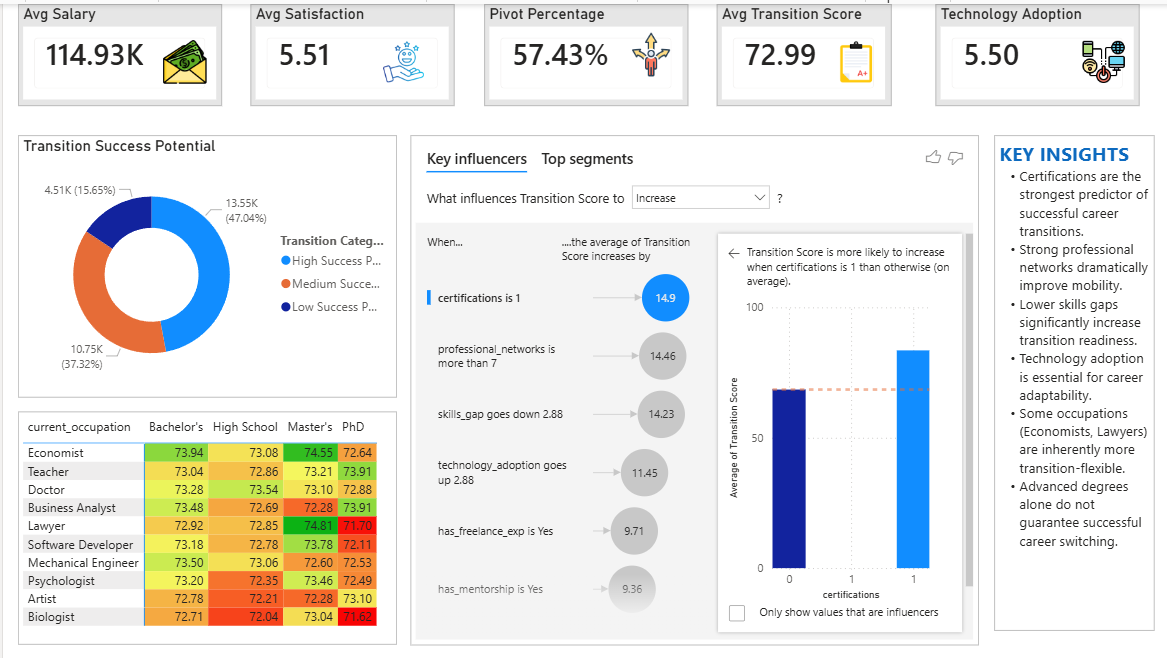

The dashboard page shown, as its layout file describes it:
{"tool":"powerbi","page":{"name":"Page 2","canvas":[1280,720],"ordinal":1},"visuals":[{"type":"donutChart","title":"Transition Success Potential","fields":{"Y":["CountNonNull(dashboard_ready_career_data.Transition Category)"],"Category":["dashboard_ready_career_data.Transition Category"]},"box":[16,144,416,288],"z":1},{"type":"pivotTable","fields":{"Rows":["dashboard_ready_career_data.current_occupation"],"Columns":["dashboard_ready_career_data.education_level"],"Values":["Avg(dashboard_ready_career_data.Transition Score)"]},"box":[16,448,416,256],"z":2},{"type":"cardVisual","title":"Avg Salary","fields":{"Data":["dashboard_ready_career_data.avg_salary"]},"box":[16,0,224,112],"z":3},{"type":"cardVisual","title":"Avg Satisfaction","fields":{"Data":["dashboard_ready_career_data.avg_satisfaction"]},"box":[272,0,224,112],"z":4},{"type":"cardVisual","title":"Pivot Percentage","fields":{"Data":["dashboard_ready_career_data.Pivot %"]},"box":[528,0,224,112],"z":5},{"type":"cardVisual","title":"Avg Transition Score","fields":{"Data":["Avg(dashboard_ready_career_data.Transition Score)"]},"box":[784,0,192,112],"z":6},{"type":"cardVisual","title":"Technology Adoption","fields":{"Data":["dashboard_ready_career_data.avg_technology_adoption"]},"box":[1024,0,224,112],"z":7},{"type":"keyDriversVisual","fields":{"Target":["dashboard_ready_career_data.Transition Score"],"ExplainBy":["dashboard_ready_career_data.certifications","dashboard_ready_career_data.has_mentorship","dashboard_ready_career_data.has_freelance_exp","dashboard_ready_career_data.skills_gap","dashboard_ready_career_data.job_satisfaction","dashboard_ready_career_data.technology_adoption","dashboard_ready_career_data.professional_networks"]},"box":[448,144,624,560],"z":8},{"type":"image","box":[176,32,48,64],"z":9},{"type":"image","box":[416,32,48,64],"z":10},{"type":"image","box":[688,32,48,48],"z":11},{"type":"image","box":[1184,32,48,64],"z":12},{"type":"image","box":[912,32,48,64],"z":13},{"type":"textbox","box":[1088,144,176,544],"z":14}]}

Visuals, with their boxes in screenshot pixels (x1, y1, x2, y2), scaled from the page's 1280x720 canvas onto the 1167x658 screenshot:
"Transition Success Potential" donutChart: <region>15, 132, 394, 395</region>
pivotTable - dashboard_ready_career_data.current_occupation x dashboard_ready_career_data.education_level: <region>15, 409, 394, 643</region>
"Avg Salary" cardVisual: <region>15, 0, 219, 102</region>
"Avg Satisfaction" cardVisual: <region>248, 0, 452, 102</region>
"Pivot Percentage" cardVisual: <region>481, 0, 686, 102</region>
"Avg Transition Score" cardVisual: <region>715, 0, 890, 102</region>
"Technology Adoption" cardVisual: <region>934, 0, 1138, 102</region>
keyDriversVisual - dashboard_ready_career_data.Transition Score x dashboard_ready_career_data.certifications: <region>408, 132, 977, 643</region>
image: <region>160, 29, 204, 88</region>
image: <region>379, 29, 423, 88</region>
image: <region>627, 29, 671, 73</region>
image: <region>1079, 29, 1123, 88</region>
image: <region>831, 29, 875, 88</region>
textbox: <region>992, 132, 1152, 629</region>
